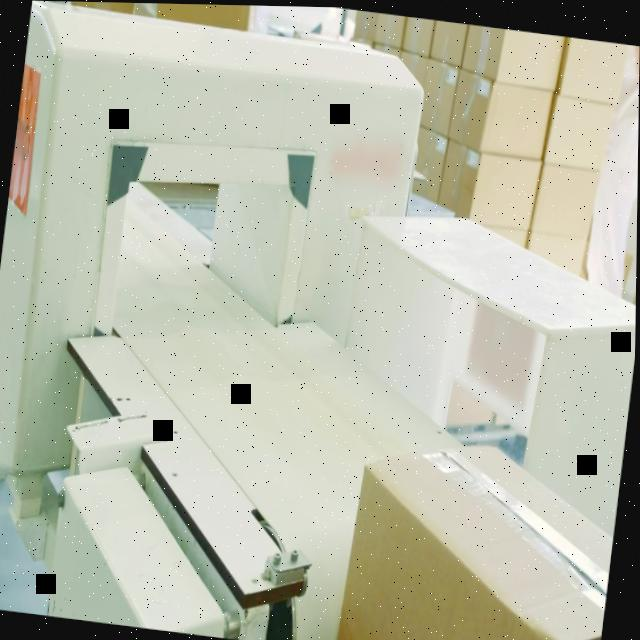box: (336, 426, 623, 640), (570, 636, 602, 640)
